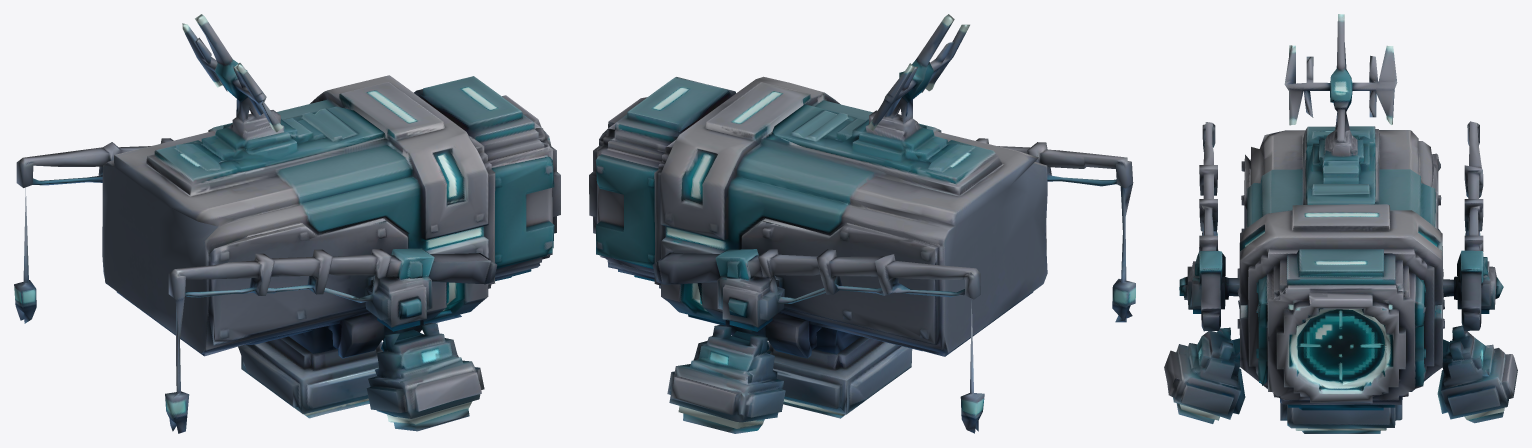
File: fishbot-mk2.glb
The picture shows the model from 3 angles, left to right: view 1: azimuth 30°, elevation 25°; view 2: azimuth 150°, elevation 25°; view 3: azimuth 270°, elevation 25°; orthographic projection. The views are drawn at different scales.
Visible parts, largest first — view 1: tripo_node_1099a84a-b1b0-4031-9f1b-c244faca4a4d; view 2: tripo_node_1099a84a-b1b0-4031-9f1b-c244faca4a4d; view 3: tripo_node_1099a84a-b1b0-4031-9f1b-c244faca4a4d.
Boxes of the visible parts, <box> form: tripo_node_1099a84a-b1b0-4031-9f1b-c244faca4a4d: <box>14,14,560,433</box>; tripo_node_1099a84a-b1b0-4031-9f1b-c244faca4a4d: <box>589,14,1135,433</box>; tripo_node_1099a84a-b1b0-4031-9f1b-c244faca4a4d: <box>1164,14,1517,433</box>.
Size of the model in its own units: 1 by 0.9026 by 0.8155.
Materials: 1 (1 with a texture image).
